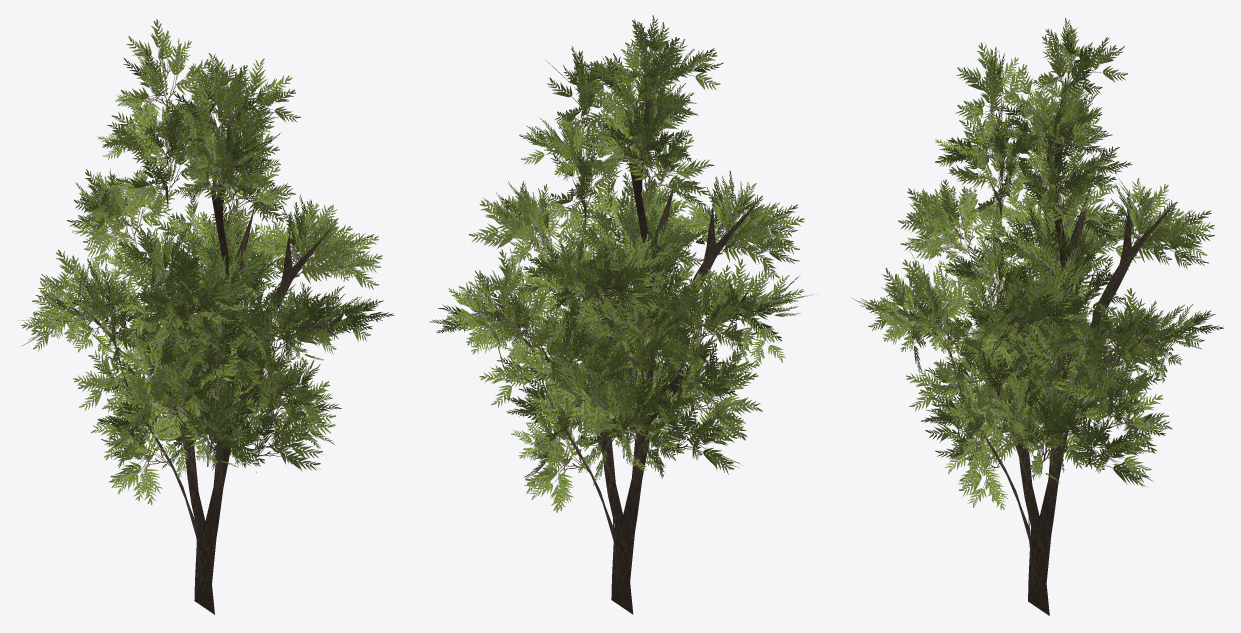
Rendered from arvore_folhosa2.glb.
3 renders of one model, left to right at view 1: azimuth 30°, elevation 25°; view 2: azimuth 150°, elevation 25°; view 3: azimuth 270°, elevation 25°, orthographic. The views are drawn at different scales.
Parts seen in each view (by area): view 1: arvore_folhosa2; view 2: arvore_folhosa2; view 3: arvore_folhosa2.
Part boxes in pixels (left/top/right/bottom): arvore_folhosa2: left=19, top=19, right=394, bottom=614; arvore_folhosa2: left=429, top=15, right=816, bottom=614; arvore_folhosa2: left=852, top=17, right=1223, bottom=615.
Size of the model in its own units: 6.07 by 10 by 5.93.
2 materials, 2 textured.
